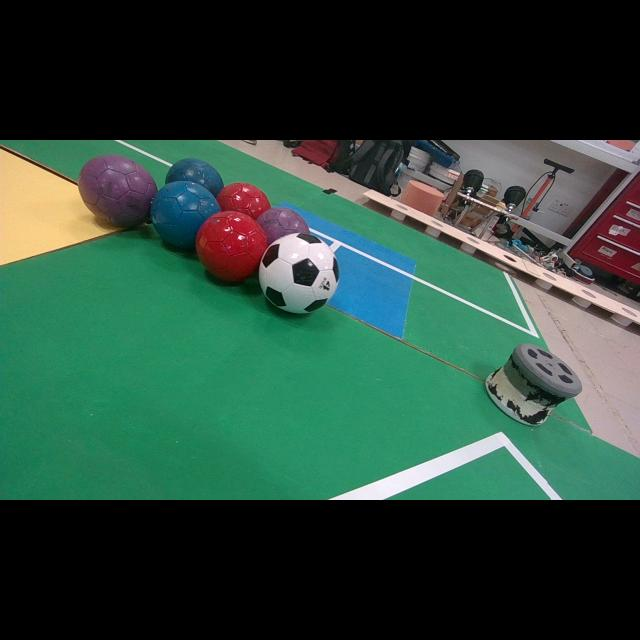B: (150, 182, 220, 249), (166, 159, 224, 196)
P: (78, 155, 158, 227), (256, 208, 310, 244)
R: (195, 211, 268, 282), (216, 182, 271, 219)
